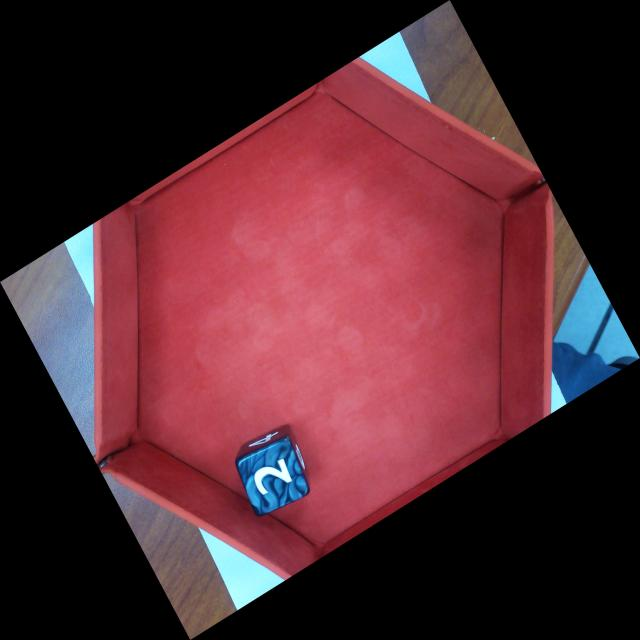dice: (232, 433, 313, 521)
